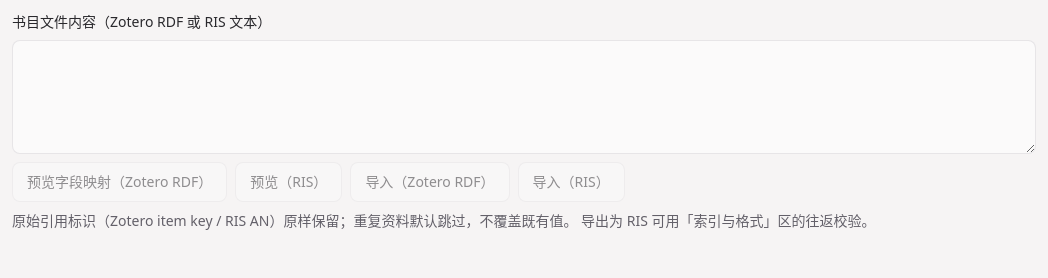
Test: 书目导入（Zotero RDF / RIS） › 解析失败（400）时如实报错而不是假装成功
Type "垃圾文本" into the text box with test id "n381-bib-content" at point(524, 97), box x1=12 y1=40 x2=1036 y2=154
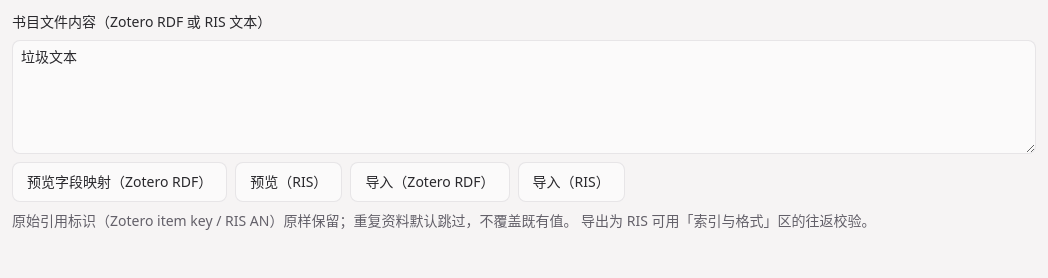
Click the button "预览（RIS）" at point(289, 182), box x1=235 y1=162 x2=342 y2=202
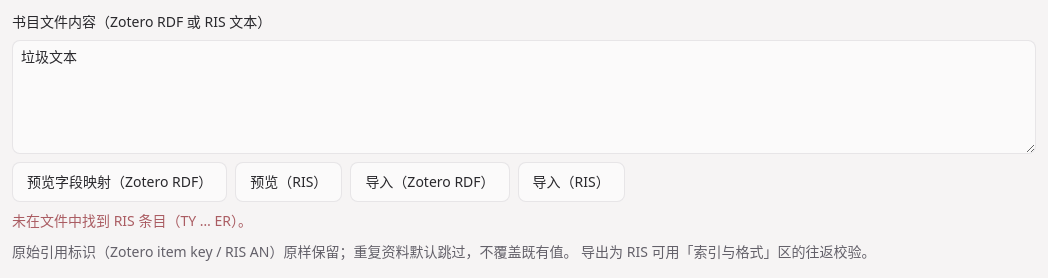
expect the message shows "未在文件中找到 RIS 条目": met, box x1=12 y1=211 x2=252 y2=230
